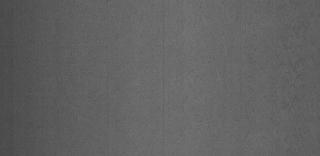silk spot: (177, 6, 309, 148)
